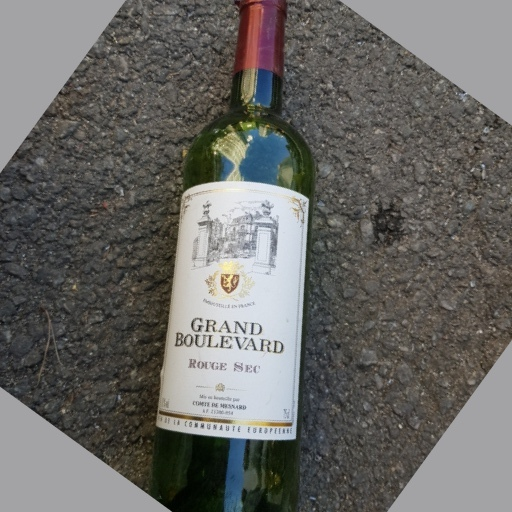Glass_2: (157, 1, 317, 512)
